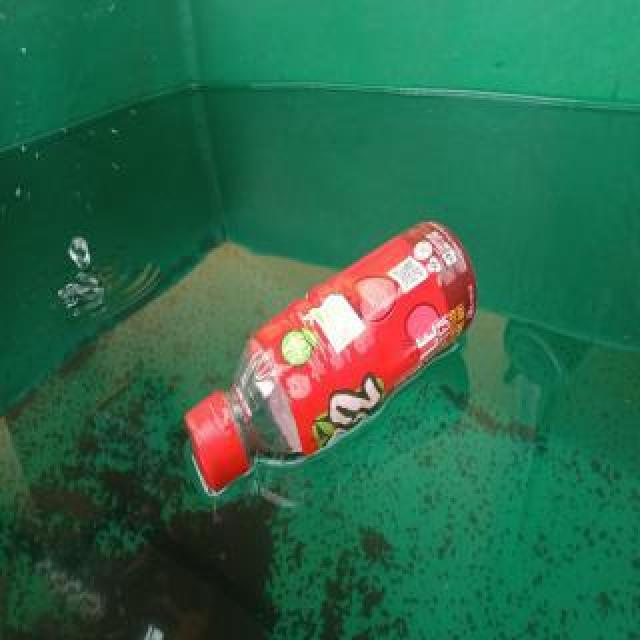bottle: (182, 215, 480, 495)
